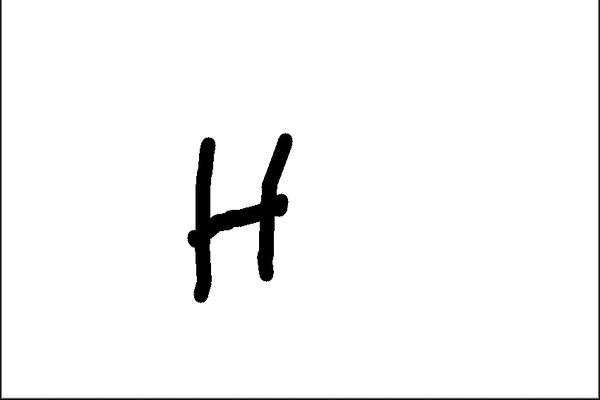H: (185, 128, 302, 303)
